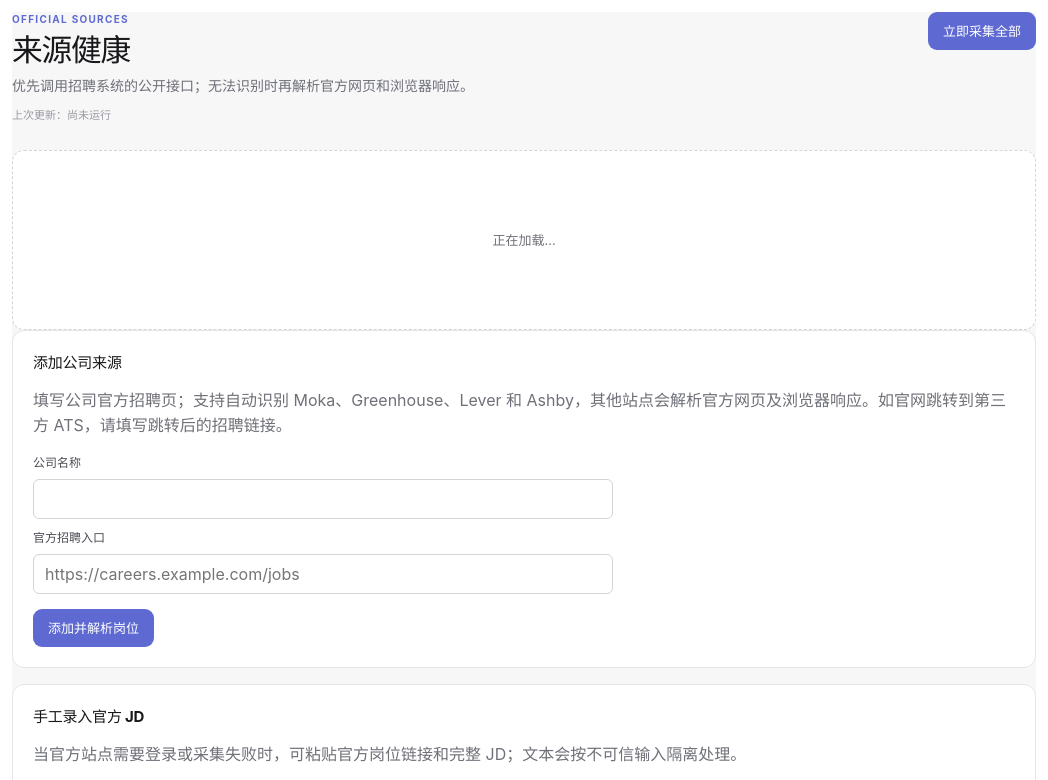
Test: 关键页面交互 › 自定义公司来源在提交后立即解析并显示完成提示
Type "虚构公司" into the field labelled "公司名称".
click(323, 499); type("虚构公司")  # box [33,479,613,519]
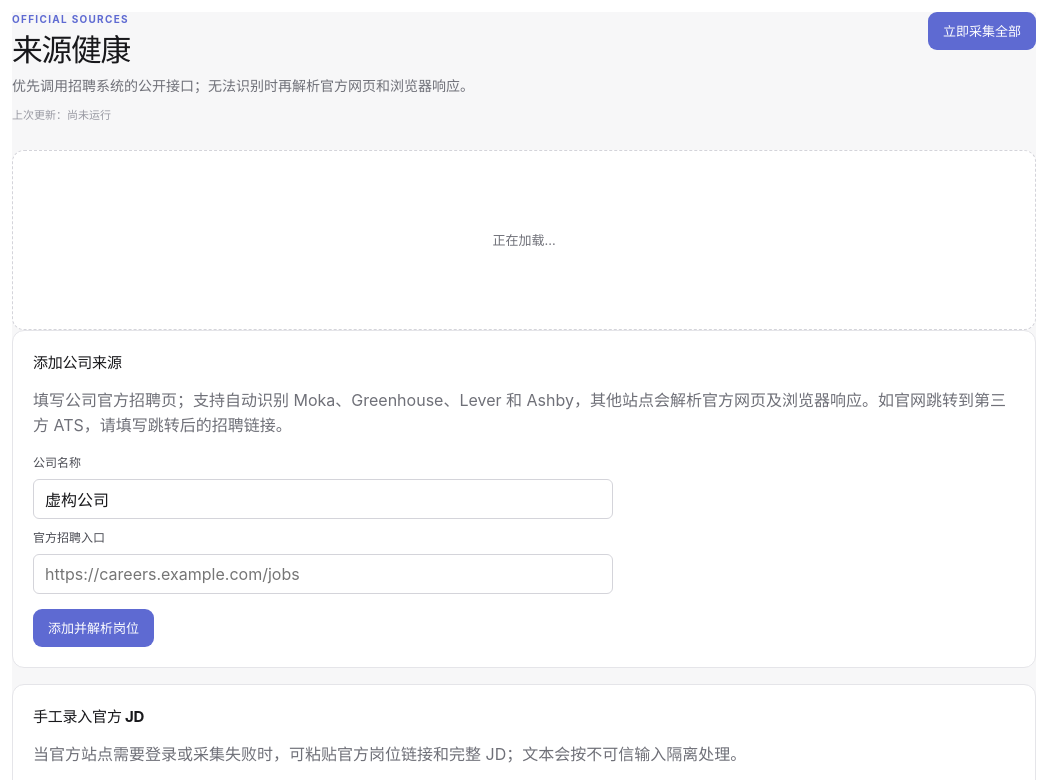
Type "https://careers.example.invalid/jobs" into the field labelled "官方招聘入口".
click(323, 574); type("https://careers.example.invalid/jobs")  # box [33,554,613,594]
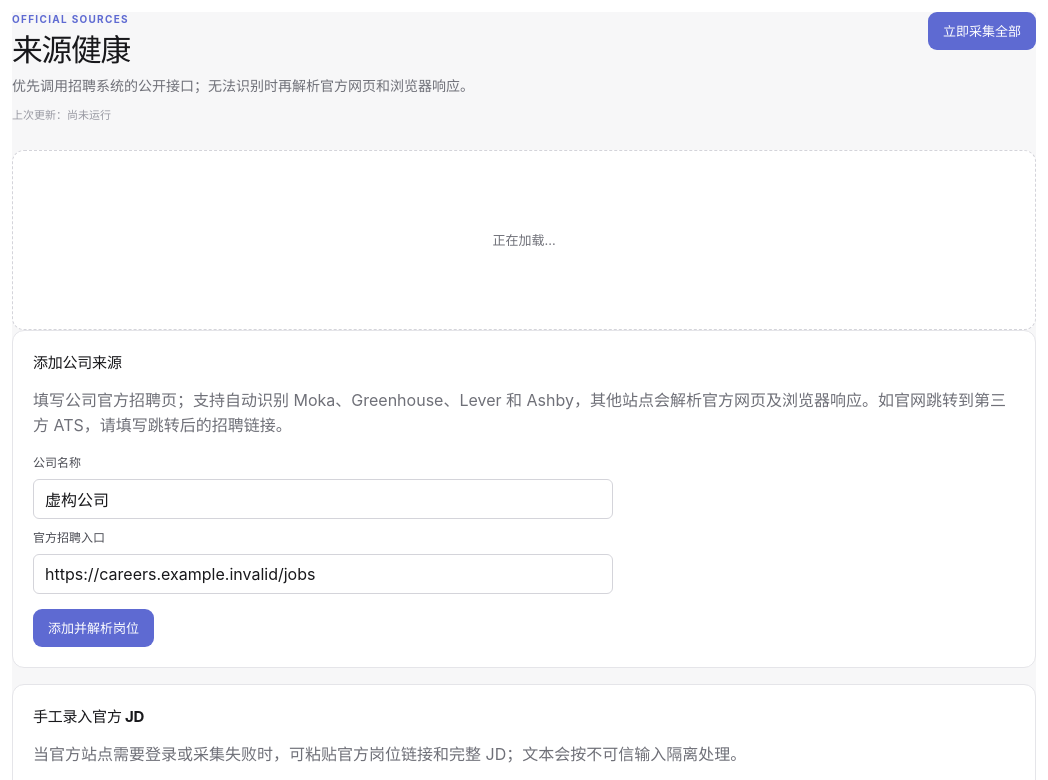
Click the button "添加并解析岗位".
click(94, 628)  # box [33,609,154,647]
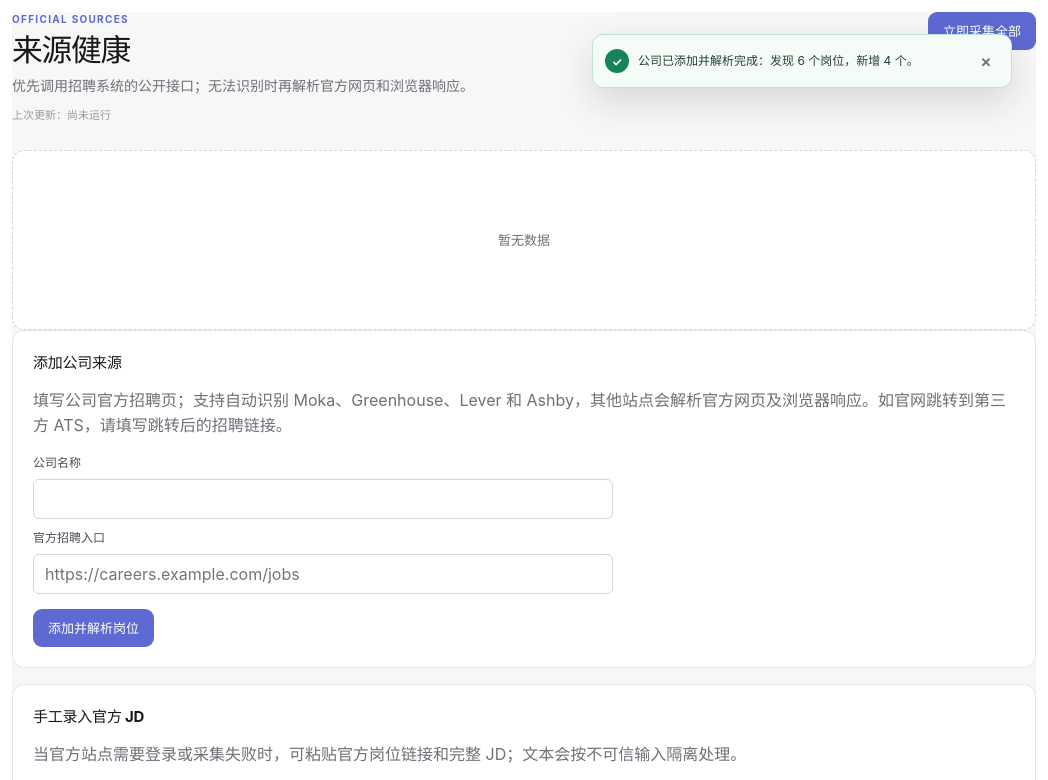
Expected: the text "公司已添加并解析完成：发现 6 个岗位，新增 4 个。" is shown, [638,52,964,70]
